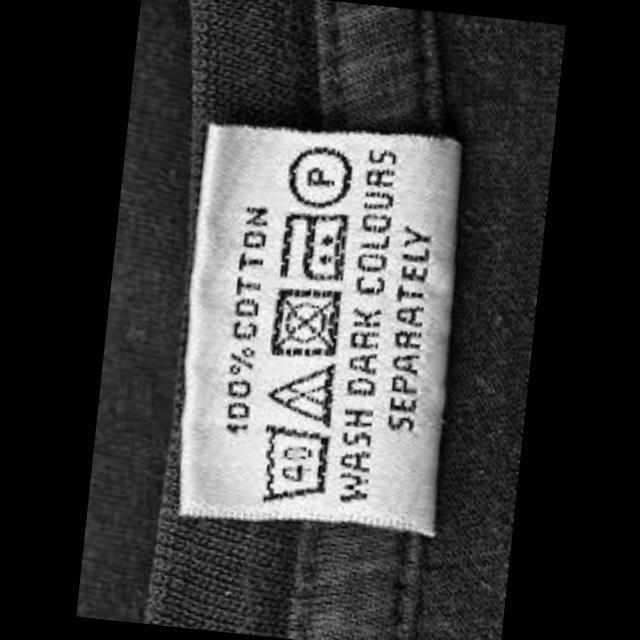40C: (252, 421, 334, 512)
DN_bleach: (258, 352, 341, 430)
DN_tumble_dry: (266, 278, 346, 365)
iron_medium: (272, 202, 354, 288)
normal_dry_clean_solvents: (280, 138, 358, 214)
